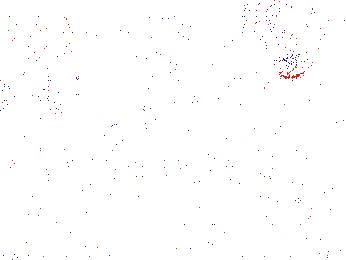moon jellyfish: (129, 48, 205, 133), (1, 42, 88, 115), (245, 1, 322, 79), (1, 1, 72, 75), (164, 11, 245, 65)
